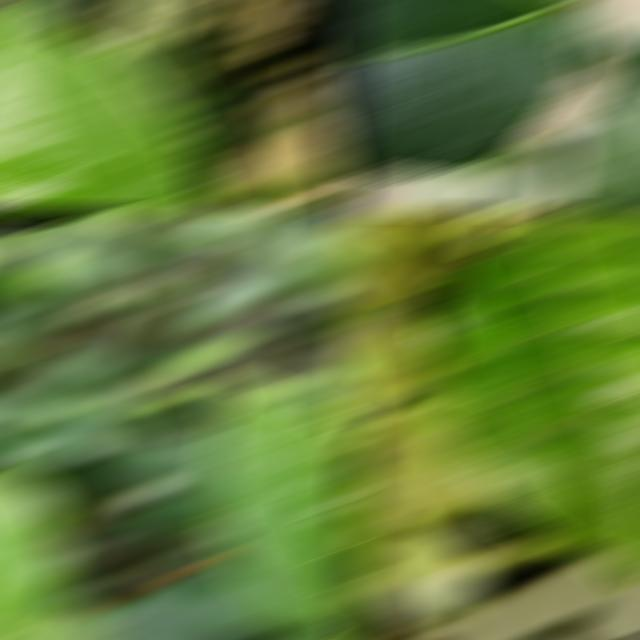Leaf: (424, 214, 640, 576), (199, 376, 362, 636), (0, 15, 219, 208), (342, 4, 586, 170), (360, 418, 493, 519), (342, 214, 480, 309), (555, 54, 640, 208), (366, 529, 487, 625), (0, 470, 71, 626), (342, 305, 429, 429), (161, 575, 292, 627), (110, 4, 219, 58), (102, 599, 238, 636), (183, 279, 292, 324), (0, 397, 47, 428)
